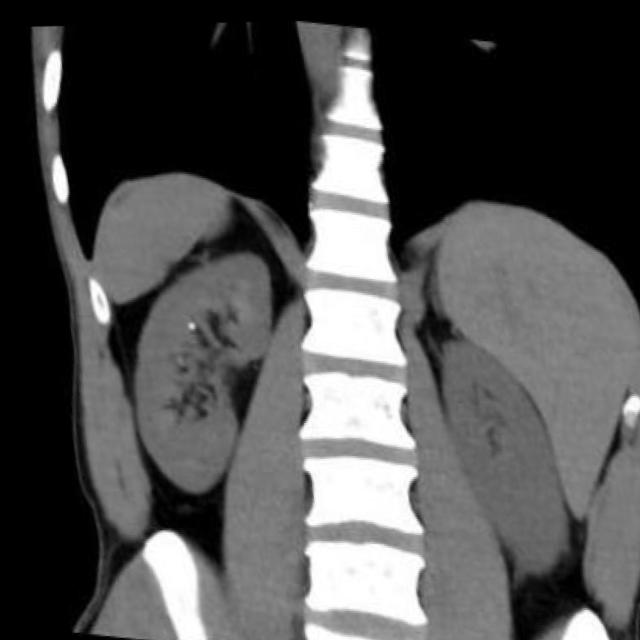Tas_Var: (181, 312, 197, 332)
